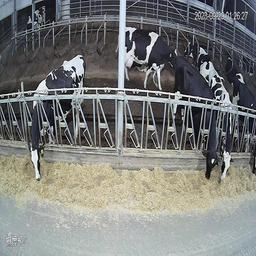cow: (27, 54, 86, 182), (172, 55, 220, 183), (127, 26, 181, 89), (208, 70, 236, 179), (233, 80, 255, 178), (184, 38, 215, 67), (225, 48, 245, 83), (26, 5, 46, 35)
